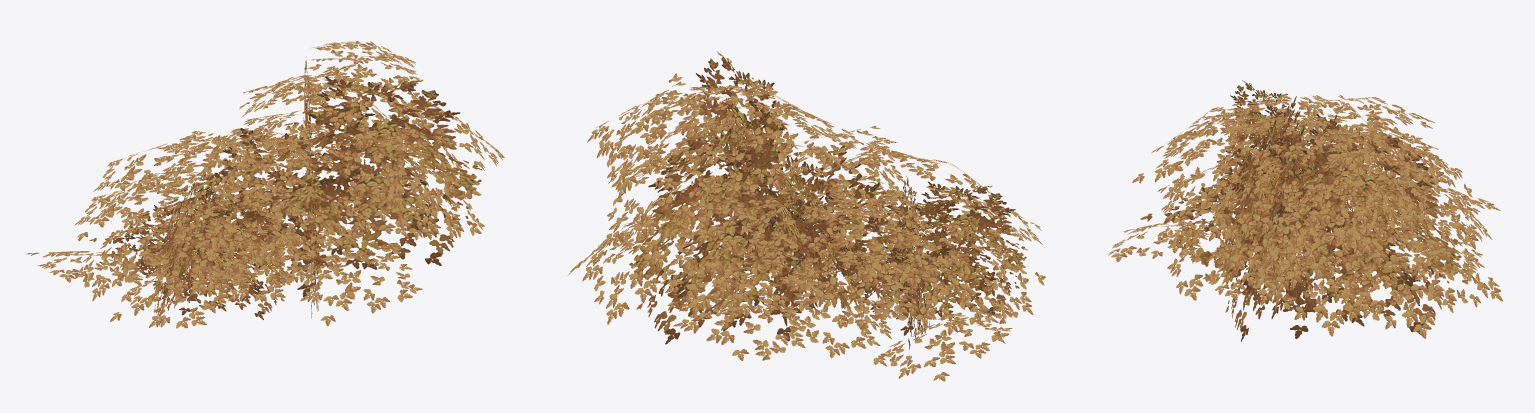
Rendered from decd_saplingclump_lg_a1_l0.fbx.
3 views of the same model, side by side, from view 1: azimuth 30°, elevation 25°; view 2: azimuth 150°, elevation 25°; view 3: azimuth 270°, elevation 25° (orthographic). The views are drawn at different scales.
Parts seen in each view (by area): view 1: mesh_node; view 2: mesh_node; view 3: mesh_node.
Boxes of the visible parts, x1,y1,x2,y2 form: mesh_node: (26,41,504,328); mesh_node: (567,51,1045,381); mesh_node: (1108,80,1502,341).
Bounding box in the file's own units: 5.88 × 3.25 × 4.79.
